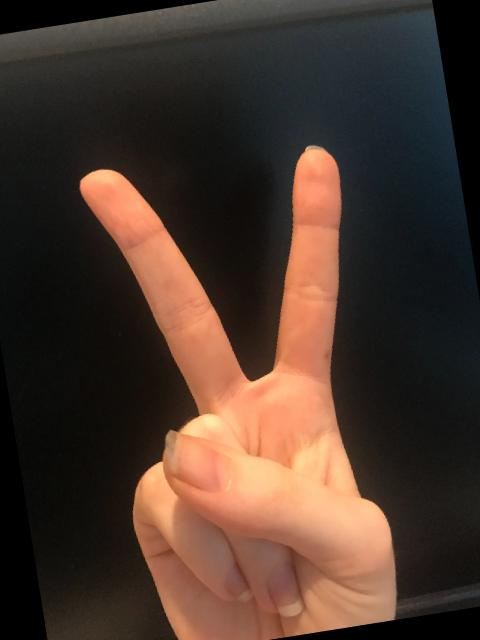V: (73, 127, 412, 640)
